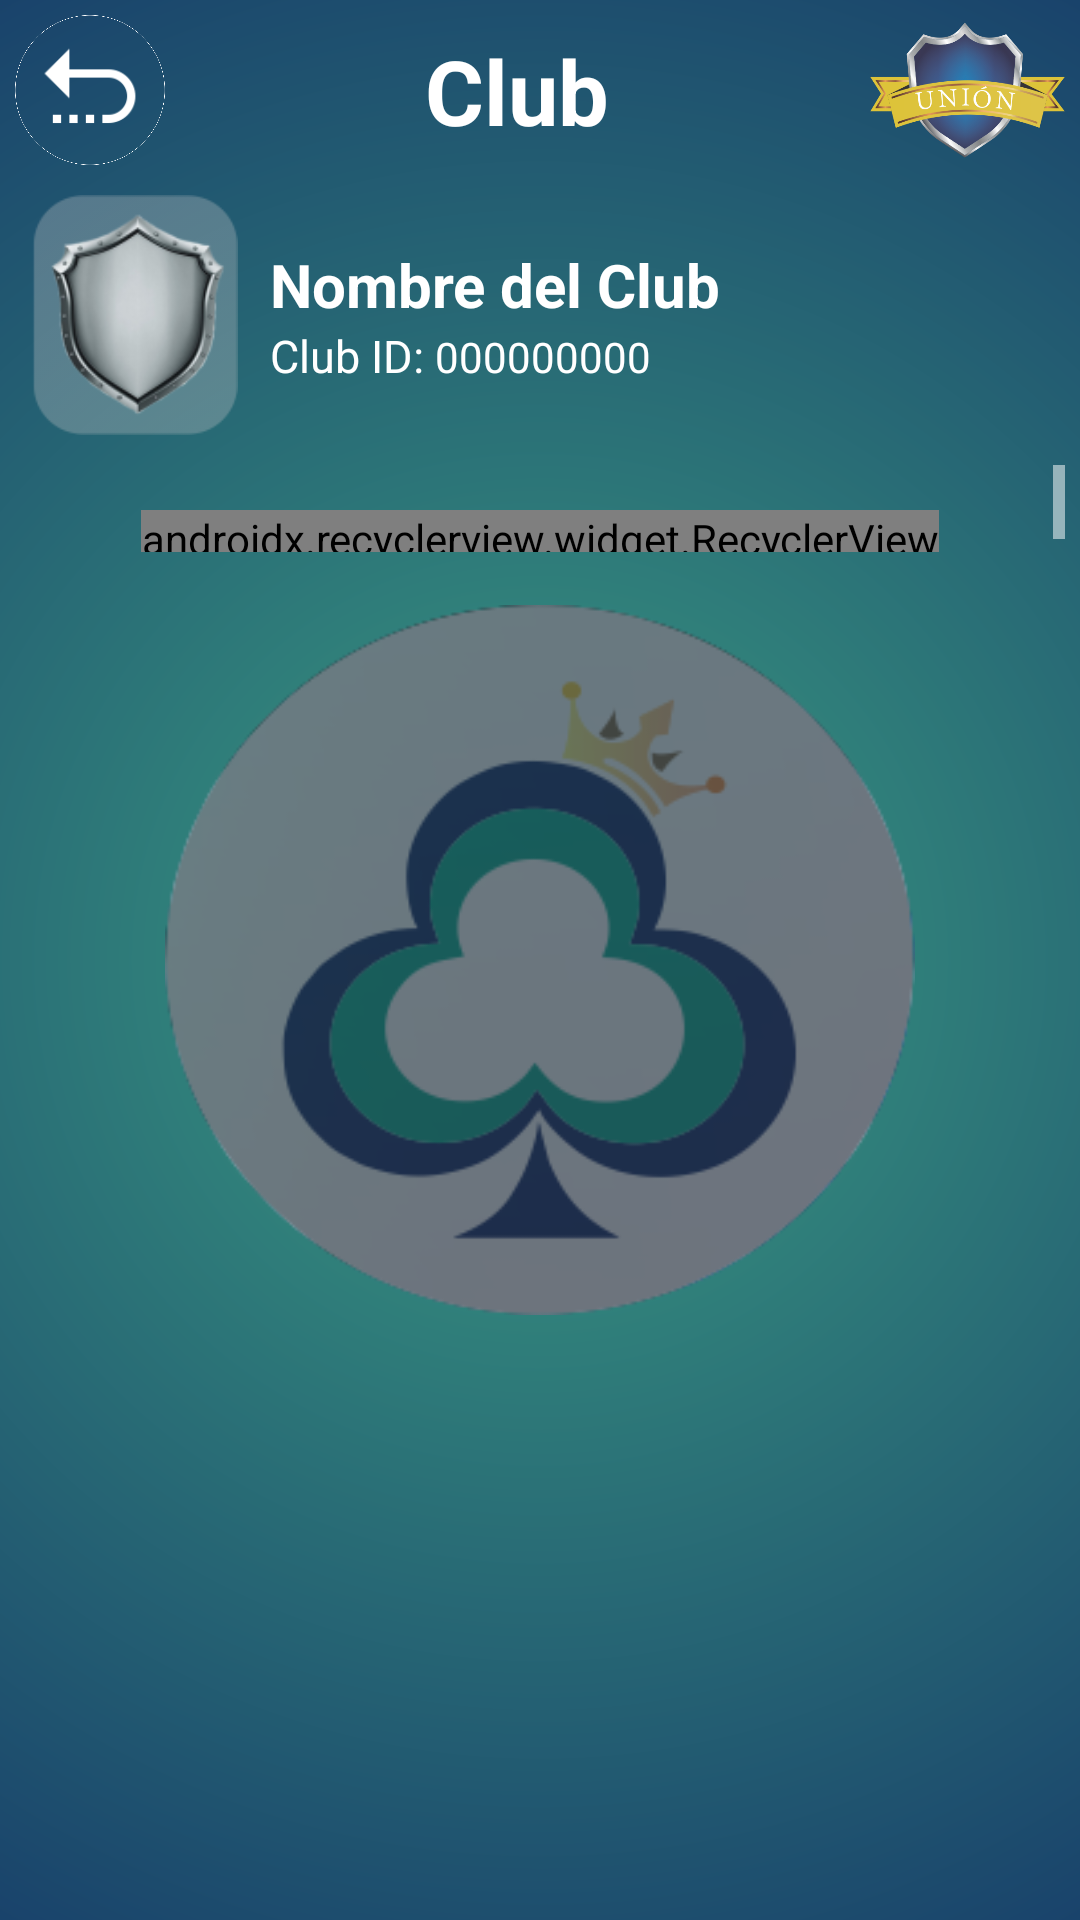

Icon click points for this 1080×1920 phone screenshot, format (x=x, y=y):
atras: (x=90, y=90)
escudo: (x=136, y=315)
